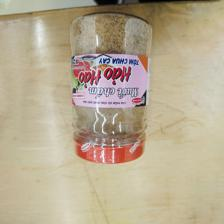Hao_hao: (69, 11, 153, 163)
